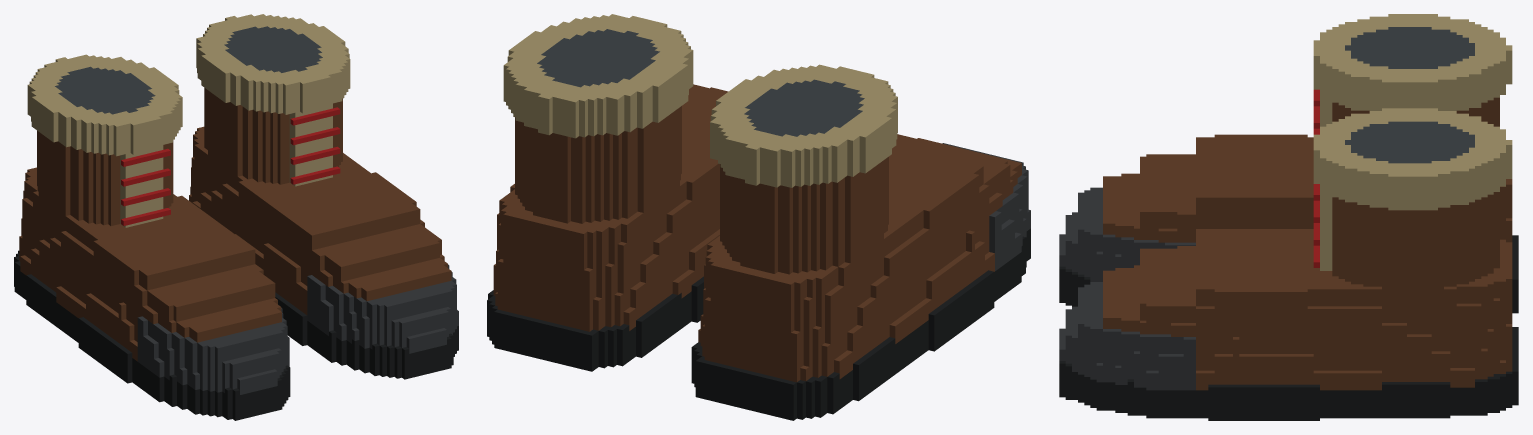
Rendered from boots_hiking.glb.
3 views of the same model, side by side, from view 1: azimuth 30°, elevation 25°; view 2: azimuth 150°, elevation 25°; view 3: azimuth 270°, elevation 25° (orthographic). The views are drawn at different scales.
Parts seen in each view (by area): view 1: boots_hiking:compound; view 2: boots_hiking:compound; view 3: boots_hiking:compound.
Boxes of the visible parts, x1=… form: boots_hiking:compound: x1=14, y1=14, x2=458, y2=420; boots_hiking:compound: x1=487, y1=14, x2=1030, y2=420; boots_hiking:compound: x1=1059, y1=14, x2=1518, y2=420.
Bounding box in the file's own units: 0.256 × 0.172 × 0.296.
